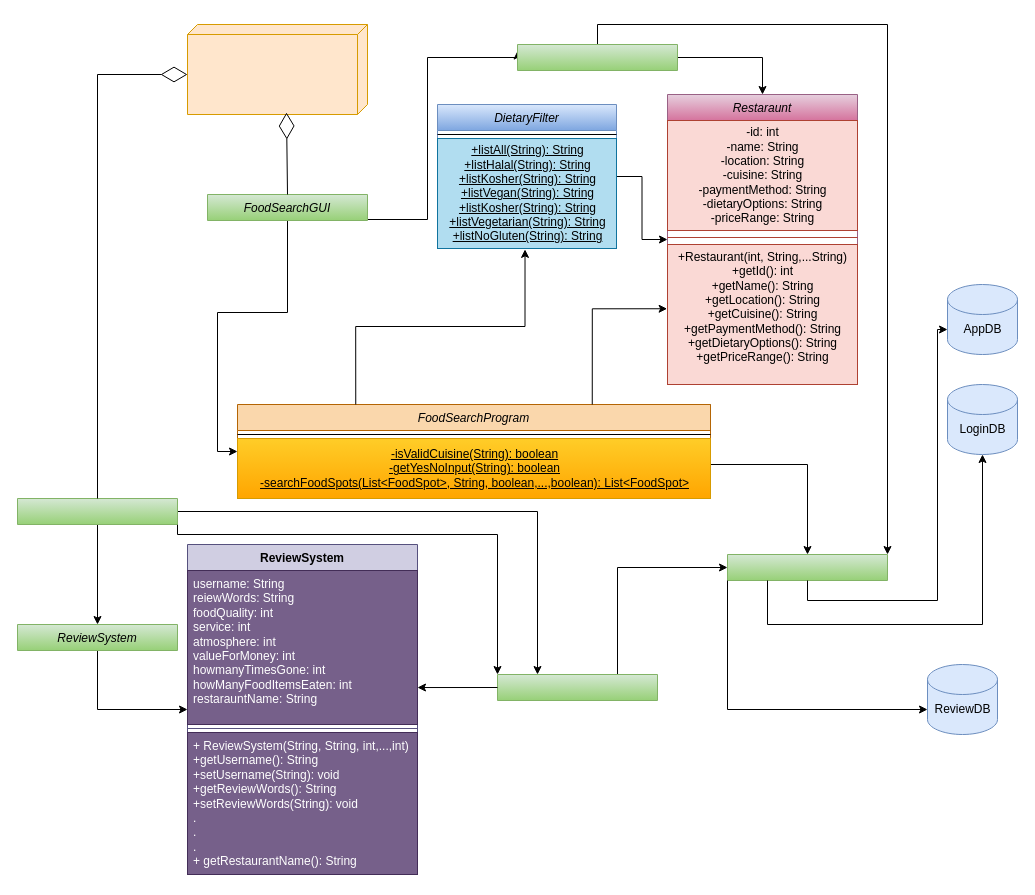
This 1035x895 diagram has some shape labels left out. Each missing label, with the centre of its shape:
"DatabaseConnection" goes at [807,567].
"FoodValueService" goes at [597,57].
"JFrame" goes at [277,69].
"ReviewSystemGUI" goes at [97,511].
"ReviewSystemOutput" goes at [577,687].
